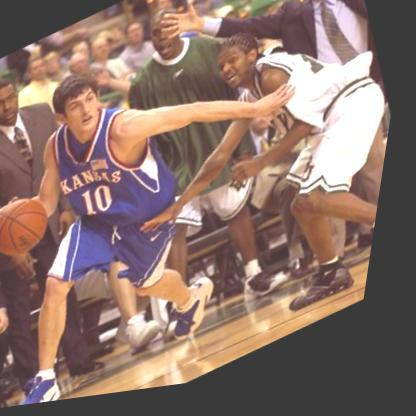basketball: (0, 188, 66, 268)
